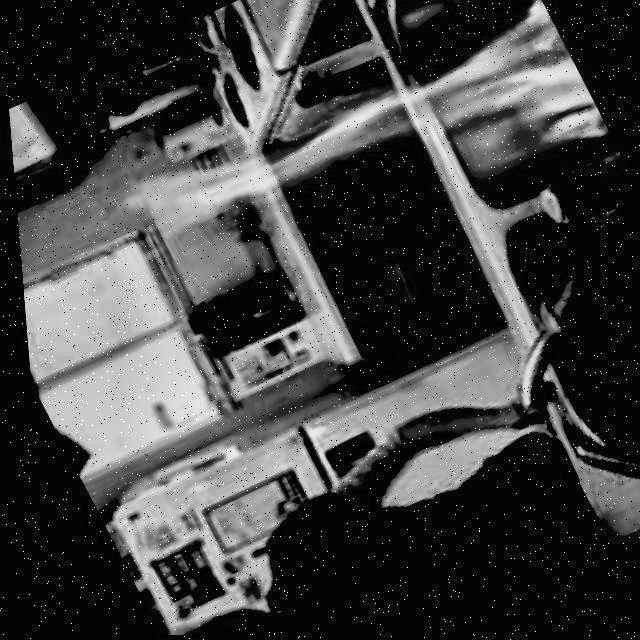Fire: (94, 0, 617, 334)
